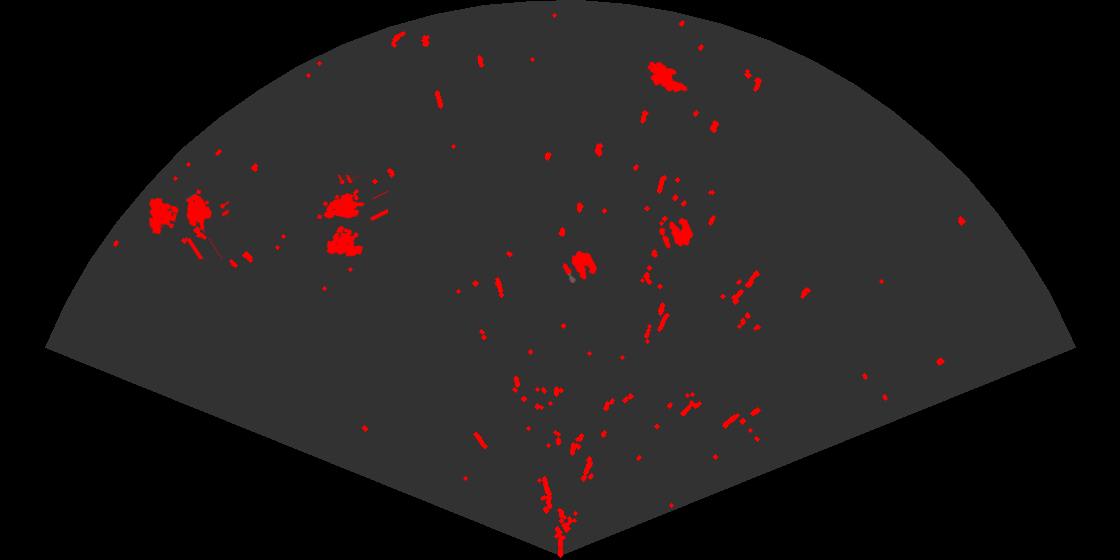AUV: (646, 60, 689, 94)
ball: (561, 249, 599, 285), (657, 216, 695, 250)
cage: (315, 175, 388, 258), (147, 188, 229, 259)
